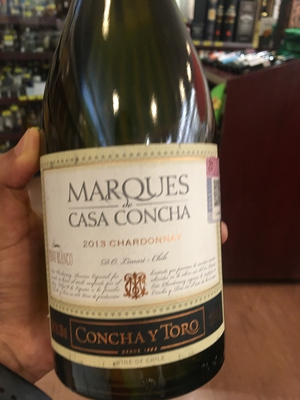marques de casa concha chardonnay: (40, 12, 243, 398)
